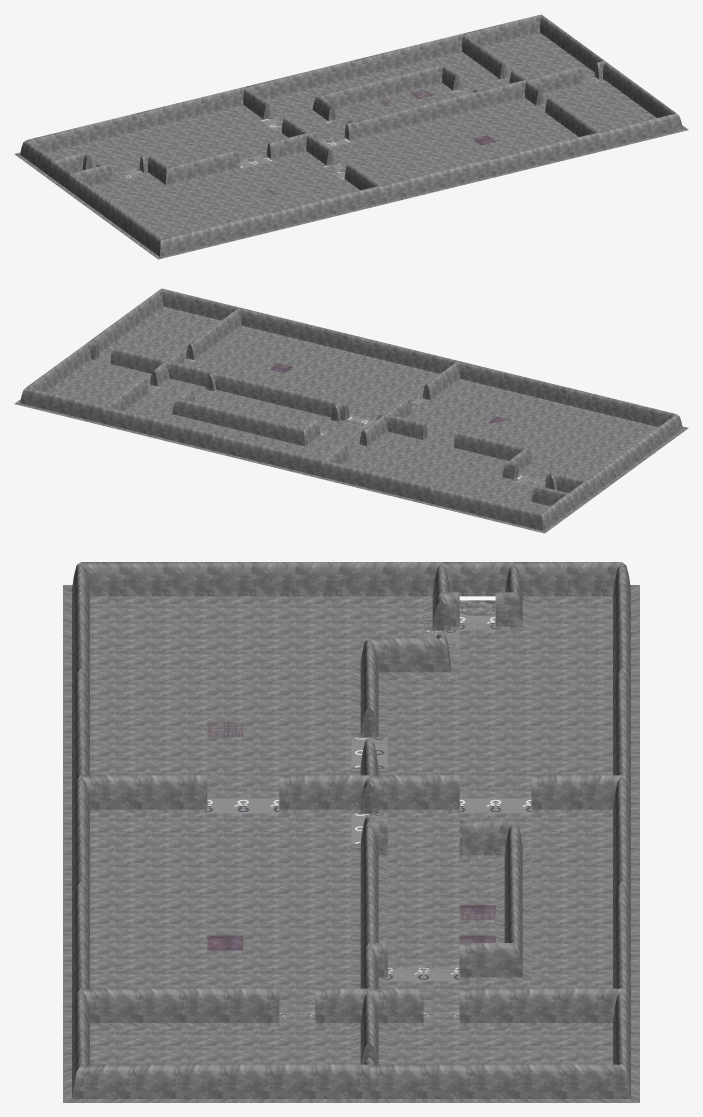
The model's file is level_12.gltf.
3 views of the same model, one above another, from view 1: azimuth 30°, elevation 25°; view 2: azimuth 150°, elevation 25°; view 3: azimuth 270°, elevation 25° (orthographic). The views are drawn at different scales.
Parts seen in each view (by area): view 1: Mesh_2, Mesh_4, Mesh_9, Mesh_10, Mesh_11, Mesh_12, Mesh_0, Mesh_1, Mesh_94, Mesh_3, Mesh_7, Mesh_109 (+33 smaller); view 2: Mesh_2, Mesh_9, Mesh_4, Mesh_10, Mesh_1, Mesh_11, Mesh_12, Mesh_109, Mesh_0, Mesh_94, Mesh_35, Mesh_31 (+30 smaller); view 3: Mesh_9, Mesh_2, Mesh_4, Mesh_10, Mesh_1, Mesh_7, Mesh_0, Mesh_41, Mesh_3, Mesh_8, Mesh_11, Mesh_23 (+49 smaller).
Boxes of the visible parts, x1=… form: Mesh_2: x1=174, y1=153, x2=356, y2=217; Mesh_4: x1=136, y1=105, x2=283, y2=167; Mesh_9: x1=328, y1=123, x2=474, y2=185; Mesh_10: x1=429, y1=100, x2=574, y2=162; Mesh_11: x1=540, y1=78, x2=656, y2=132; Mesh_12: x1=482, y1=32, x2=596, y2=82; Mesh_0: x1=92, y1=171, x2=166, y2=238; Mesh_1: x1=163, y1=185, x2=247, y2=238; Mesh_94: x1=355, y1=91, x2=481, y2=138; Mesh_3: x1=44, y1=131, x2=144, y2=177; Mesh_7: x1=263, y1=51, x2=461, y2=108; Mesh_109: x1=319, y1=64, x2=443, y2=108; Mesh_2: x1=410, y1=379, x2=565, y2=455; Mesh_9: x1=287, y1=351, x2=439, y2=421; Mesh_4: x1=346, y1=434, x2=506, y2=492; Mesh_10: x1=185, y1=325, x2=345, y2=389; Mesh_1: x1=531, y1=404, x2=658, y2=460; Mesh_11: x1=97, y1=306, x2=220, y2=362; Mesh_12: x1=46, y1=358, x2=153, y2=406; Mesh_109: x1=172, y1=398, x2=304, y2=446; Mesh_0: x1=521, y1=436, x2=645, y2=484; Mesh_94: x1=214, y1=371, x2=338, y2=417; Mesh_35: x1=430, y1=486, x2=542, y2=530; Mesh_31: x1=211, y1=433, x2=322, y2=476; Mesh_9: x1=90, y1=809, x2=360, y2=920; Mesh_2: x1=90, y1=671, x2=368, y2=801; Mesh_4: x1=371, y1=672, x2=612, y2=798; Mesh_10: x1=90, y1=913, x2=351, y2=1019; Mesh_1: x1=90, y1=596, x2=351, y2=698; Mesh_7: x1=531, y1=810, x2=612, y2=988; Mesh_0: x1=96, y1=596, x2=439, y2=663; Mesh_41: x1=81, y1=562, x2=441, y2=596; Mesh_3: x1=442, y1=596, x2=612, y2=697; Mesh_8: x1=387, y1=851, x2=495, y2=973; Mesh_11: x1=90, y1=1019, x2=351, y2=1064; Mesh_23: x1=72, y1=1064, x2=369, y2=1098.
Bounding box in the file's own units: 55.27 × 1.55 × 26.01.
5 materials, 5 textured.
